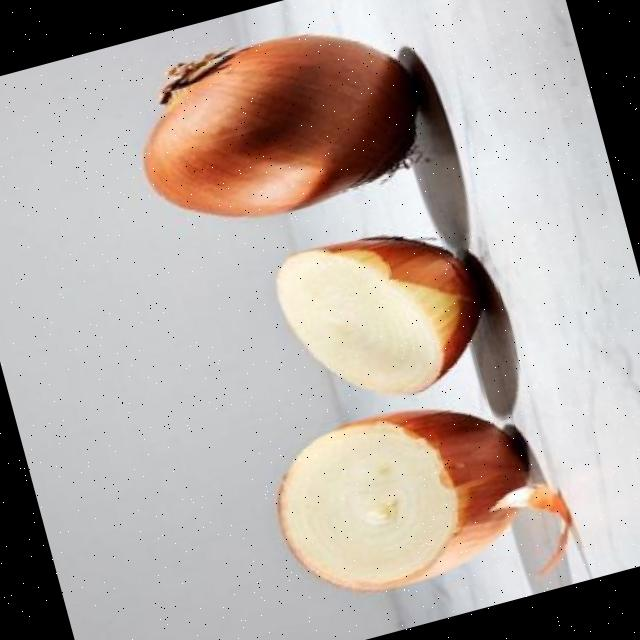Onion: (143, 32, 419, 214)
